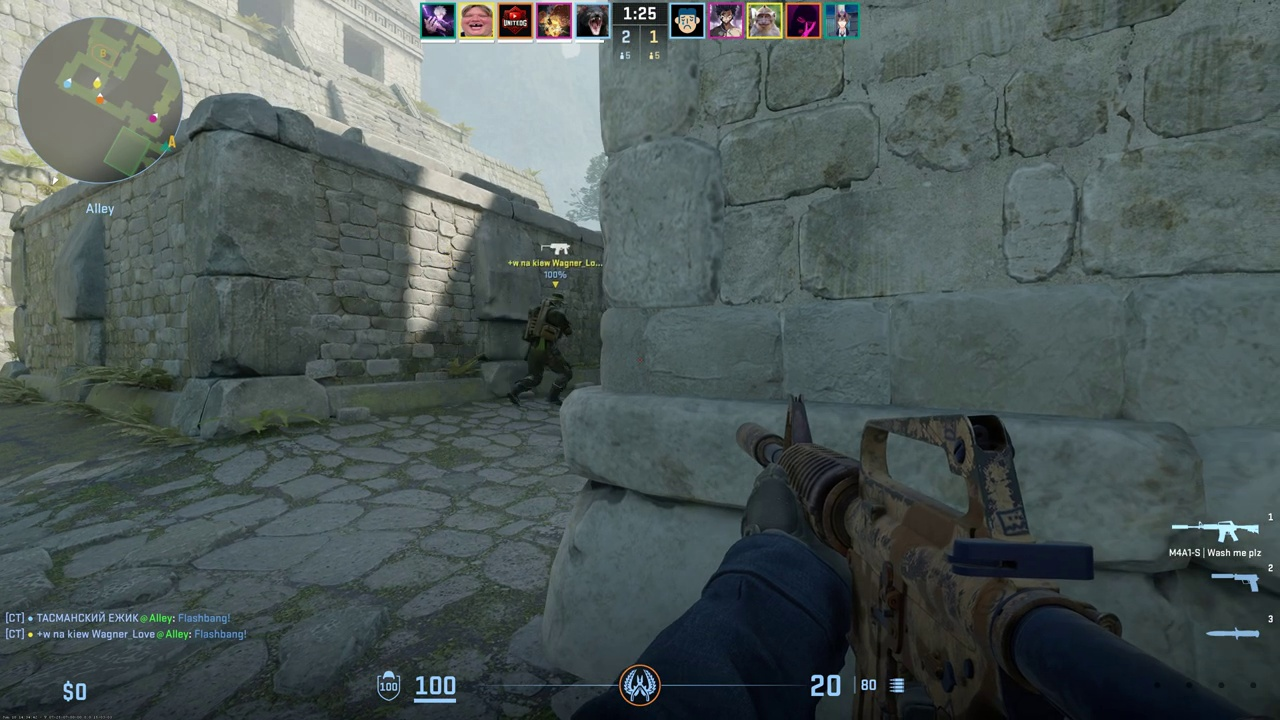CT: (513, 293, 576, 408)
